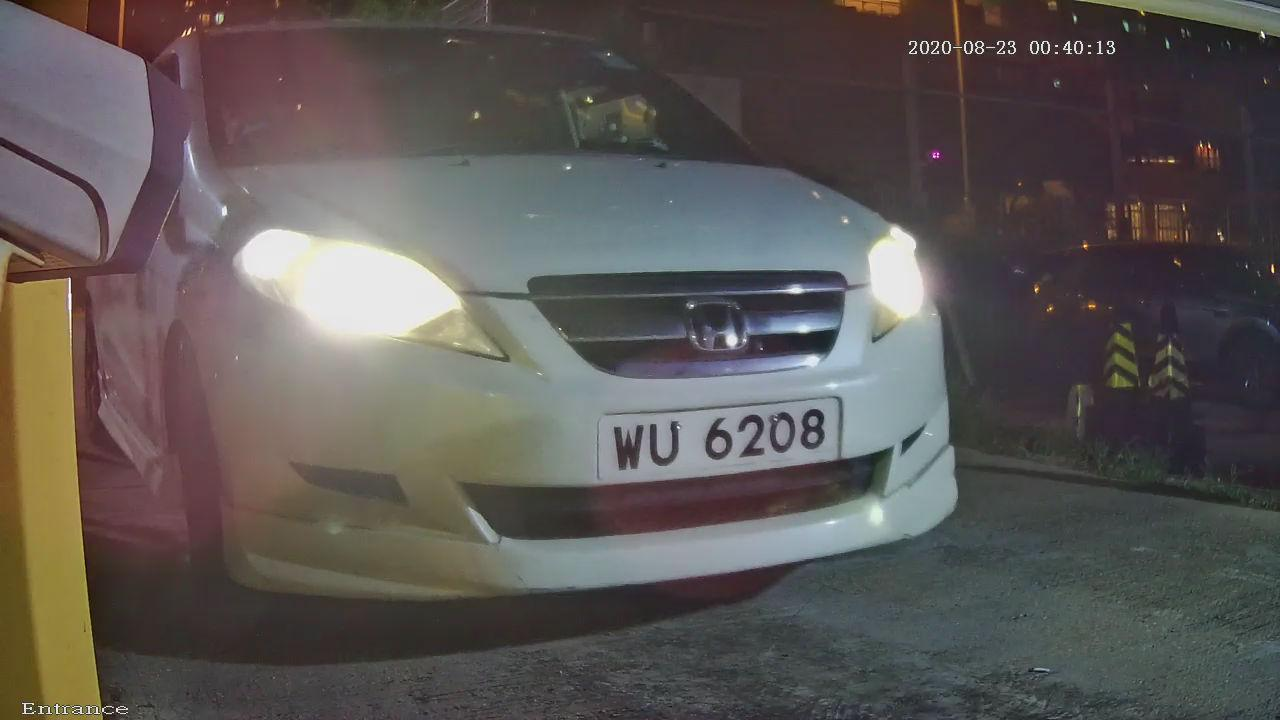Car: (58, 23, 1063, 627)
License Plate: (555, 351, 907, 525)
